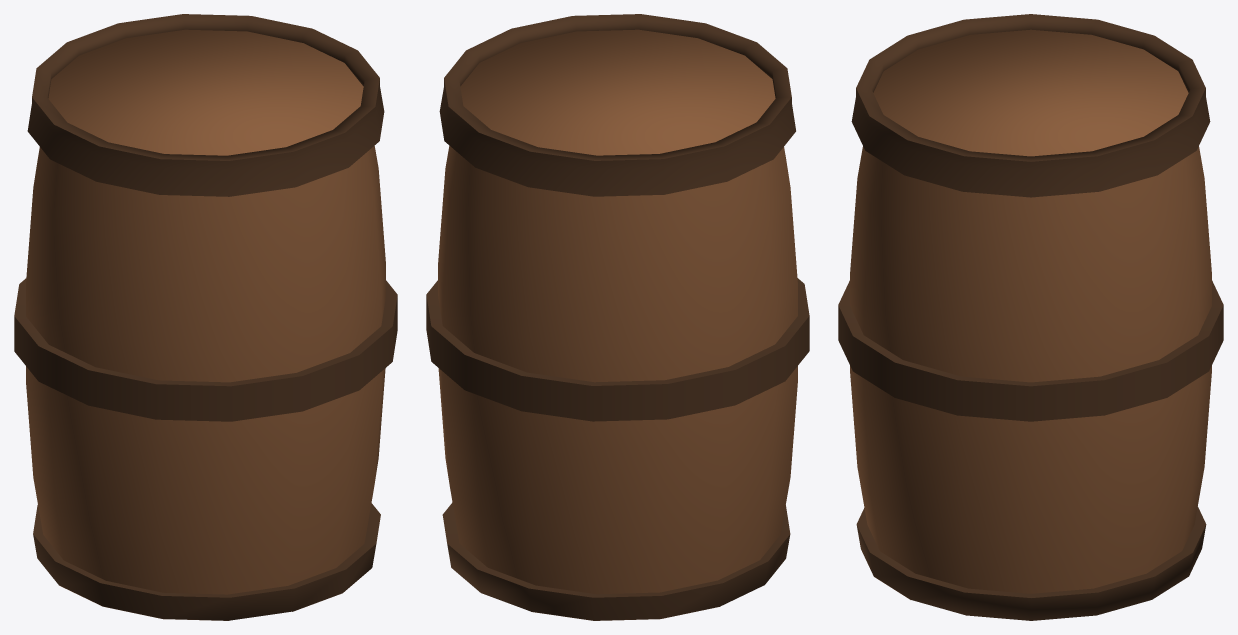
Rendered from barrel+texture.fbx.
3 renders of one model, left to right at view 1: azimuth 30°, elevation 25°; view 2: azimuth 150°, elevation 25°; view 3: azimuth 270°, elevation 25°, orthographic.
Parts seen in each view (by area): view 1: Circle; view 2: Circle; view 3: Circle.
Part boxes in pixels (box(x1,y1,x2,y2)): Circle: box(14, 14, 397, 620); Circle: box(426, 14, 809, 620); Circle: box(838, 14, 1223, 620).
Size of the model in its own units: 1.21 by 1.21 by 1.59.
